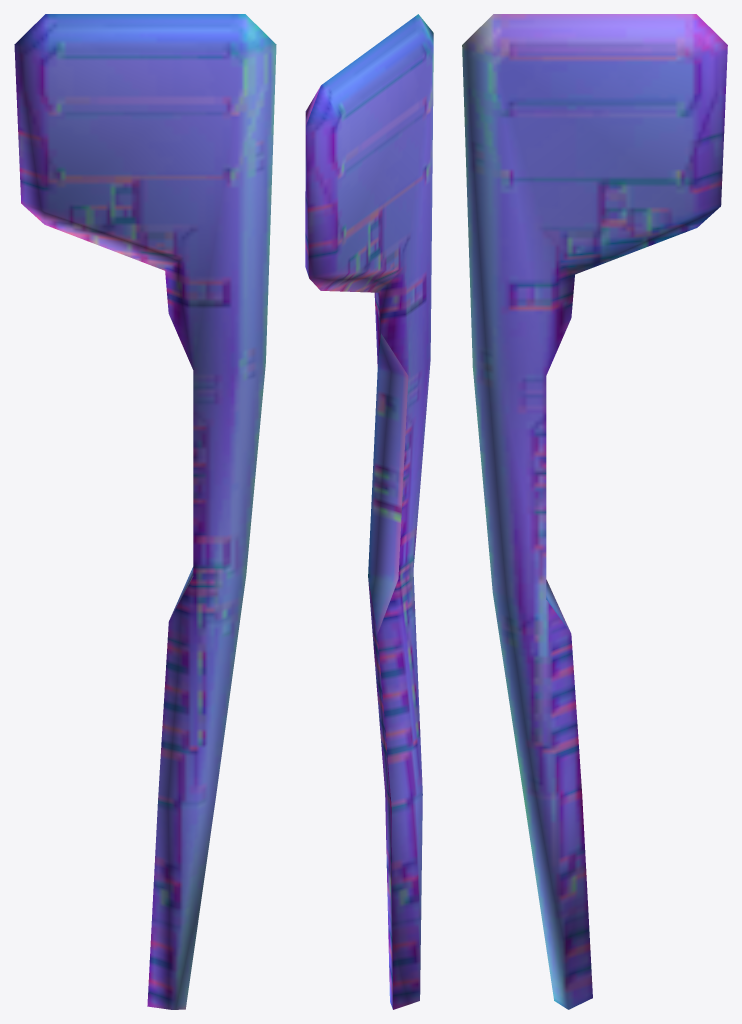
File: ship_debris_05_part_15.glb
3 views of the same model, side by side, from view 1: azimuth 90°, elevation 25°; view 2: azimuth 150°, elevation 25°; view 3: azimuth 270°, elevation 25° (orthographic). The views are drawn at different scales.
Visible parts, largest first — view 1: ship_debris_05_part_15; view 2: ship_debris_05_part_15; view 3: ship_debris_05_part_15.
Part boxes in pixels (x1=…): ship_debris_05_part_15: x1=14, y1=14, x2=276, y2=1009; ship_debris_05_part_15: x1=305, y1=14, x2=433, y2=1009; ship_debris_05_part_15: x1=462, y1=14, x2=727, y2=1009.
Bounding box in the file's own units: 0.351 × 5.16 × 1.24.
Materials: 1 (1 with a texture image).
